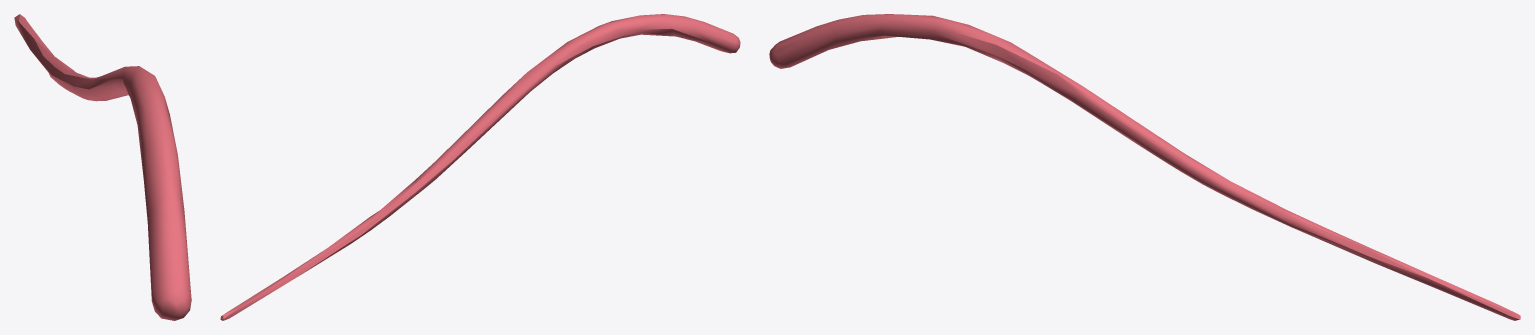
The model's file is fma49504_fj5166.glb.
3 renders of one model, left to right at view 1: azimuth 30°, elevation 25°; view 2: azimuth 150°, elevation 25°; view 3: azimuth 270°, elevation 25°, orthographic. The views are drawn at different scales.
Visible parts, largest first — view 1: FMA49504_FJ5166; view 2: FMA49504_FJ5166; view 3: FMA49504_FJ5166.
Boxes of the visible parts, bbox=[...] form: FMA49504_FJ5166: bbox=[14, 14, 191, 320]; FMA49504_FJ5166: bbox=[220, 14, 740, 320]; FMA49504_FJ5166: bbox=[769, 14, 1520, 320].
Bounding box in the file's own units: 0.011 × 0.00789 × 0.0259.
